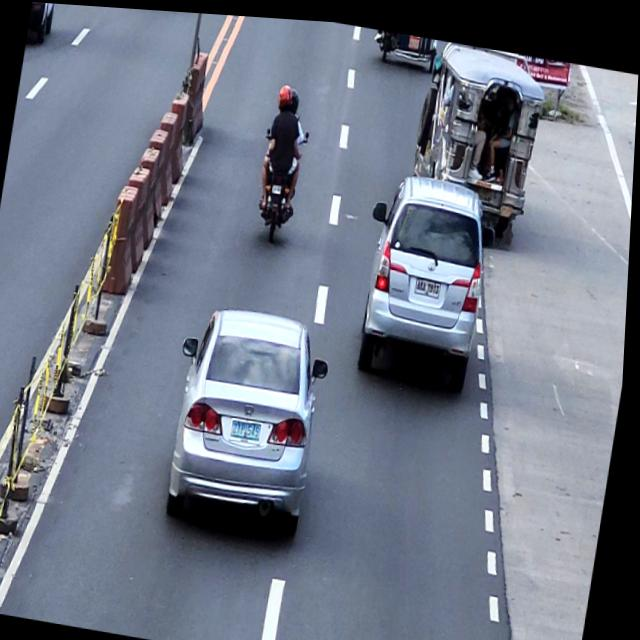Car: (160, 294, 339, 535), (350, 161, 501, 387)
Jeep: (403, 32, 551, 241)
License-Plate: (232, 412, 268, 440), (416, 268, 443, 293), (272, 179, 284, 192)
Motorcycle: (251, 120, 311, 243)
Tricycle: (377, 24, 439, 67)
